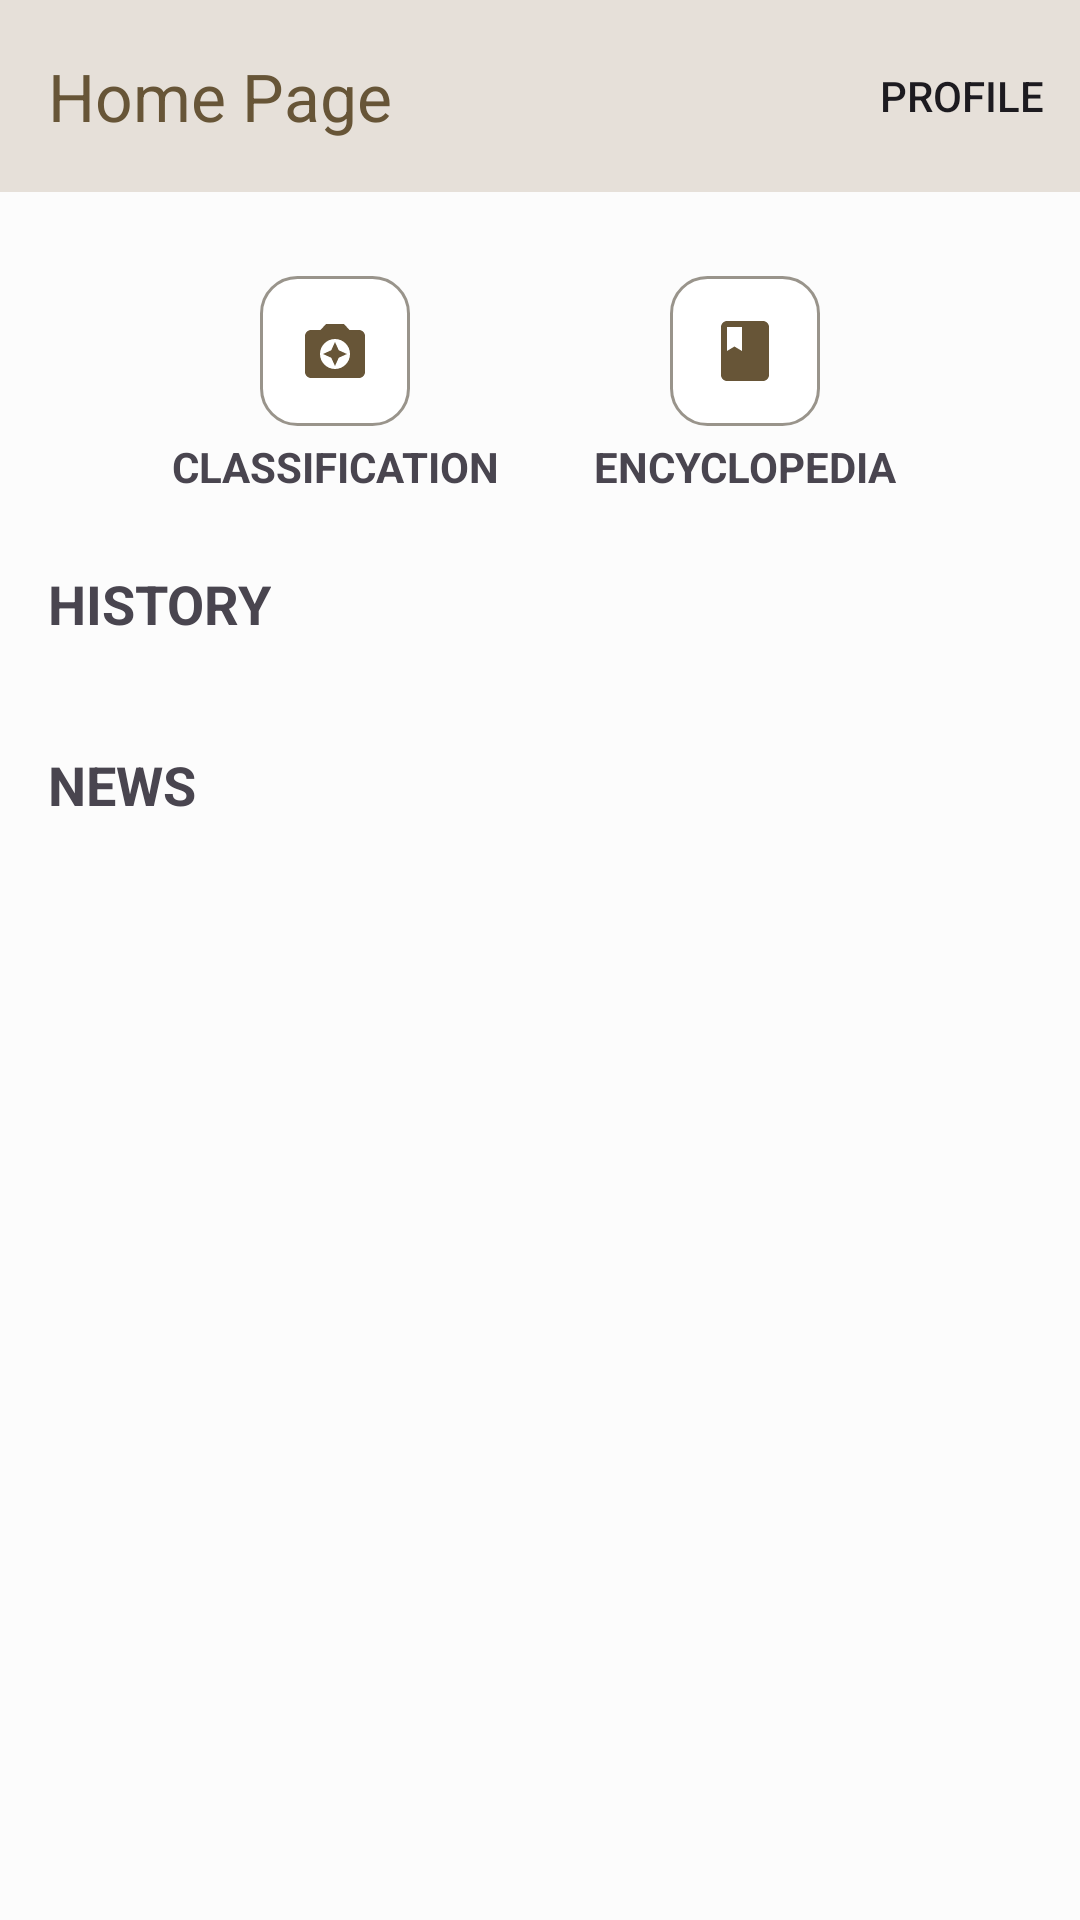

Point at icon controls on the screen. Image size 1080 × 1920, points as [x,y].
book: [745,351]
camera enhance: [335,351]
